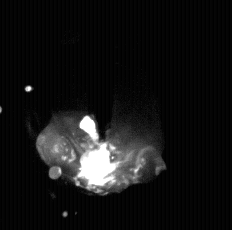arame: (91, 0, 112, 143)
poca: (36, 0, 162, 230)
